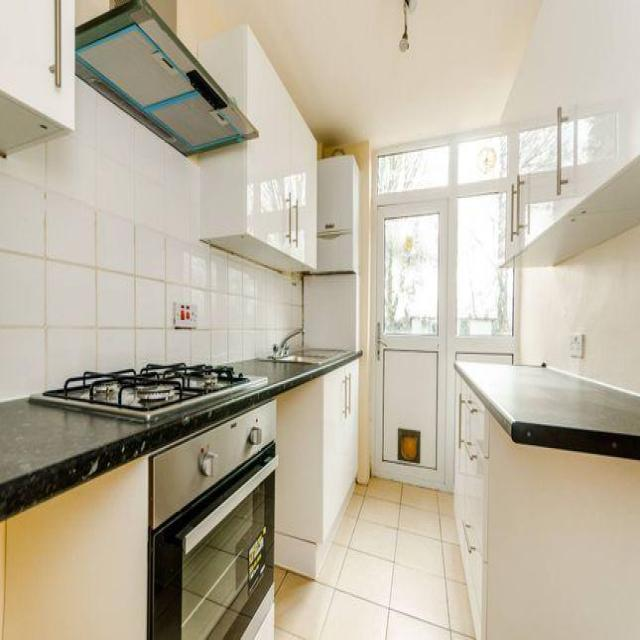Wall: (0, 81, 300, 357), (178, 0, 541, 147), (0, 247, 301, 400), (275, 478, 474, 639), (516, 225, 640, 391)
